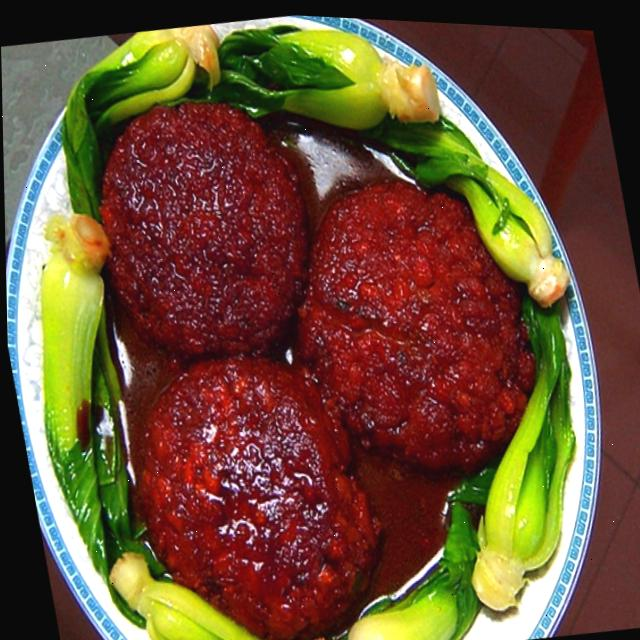猪肉菜式: (0, 0, 629, 640)
